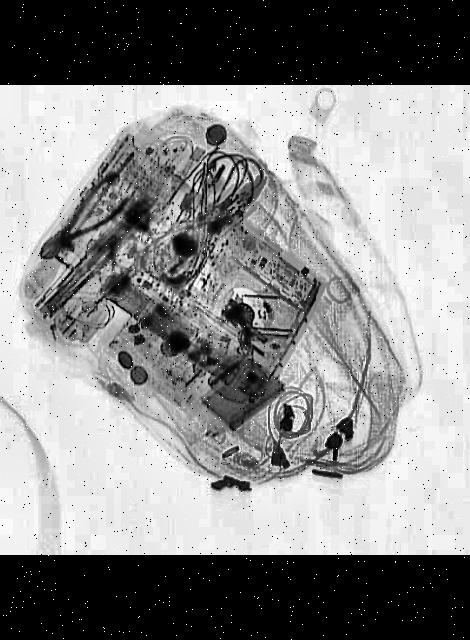Pliers: (26, 170, 142, 268)
